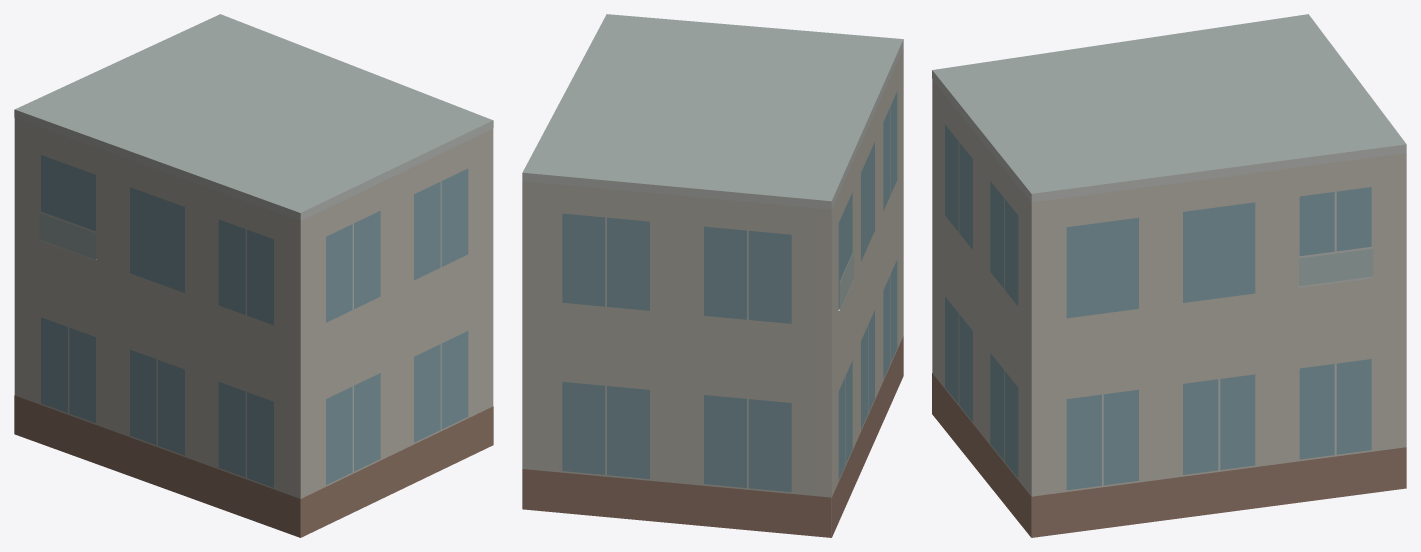
The model's file is survey-upis-32474074.glb.
3 renders of one model, left to right at view 1: azimuth 30°, elevation 25°; view 2: azimuth 150°, elevation 25°; view 3: azimuth 270°, elevation 25°, orthographic. The views are drawn at different scales.
Visible parts, largest first — view 1: survey-upis-32474074.tmp; view 2: survey-upis-32474074.tmp; view 3: survey-upis-32474074.tmp.
Boxes of the visible parts, box(x1,y1,x2,y2) form: survey-upis-32474074.tmp: box(14, 14, 493, 537); survey-upis-32474074.tmp: box(522, 14, 903, 537); survey-upis-32474074.tmp: box(932, 14, 1406, 537).
Bounding box in the file's own units: 11 × 9.8 × 12.26.
